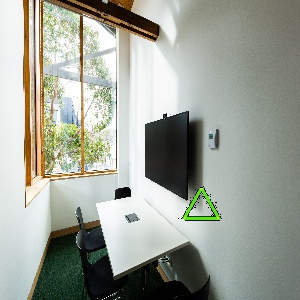triangle: (181, 185, 224, 223)
